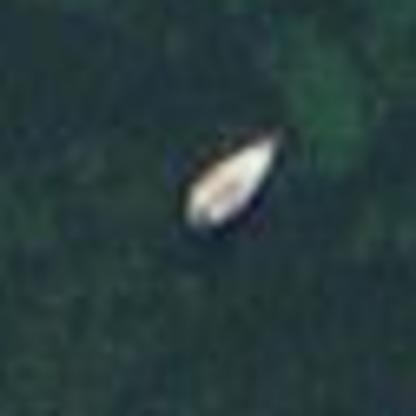ship: (166, 117, 294, 263)
